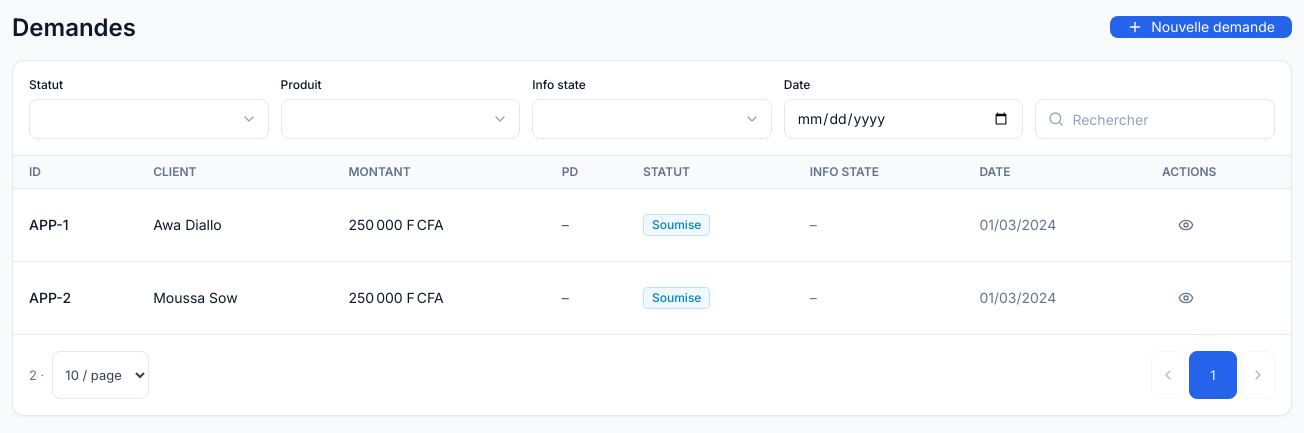
Test case: ApplicationsListPage › filters rows by free-text search
The width and height of the screenshot is (1304, 433).
Type "awa" into the search field at (1155, 119), box x1=1036 y1=100 x2=1274 y2=138
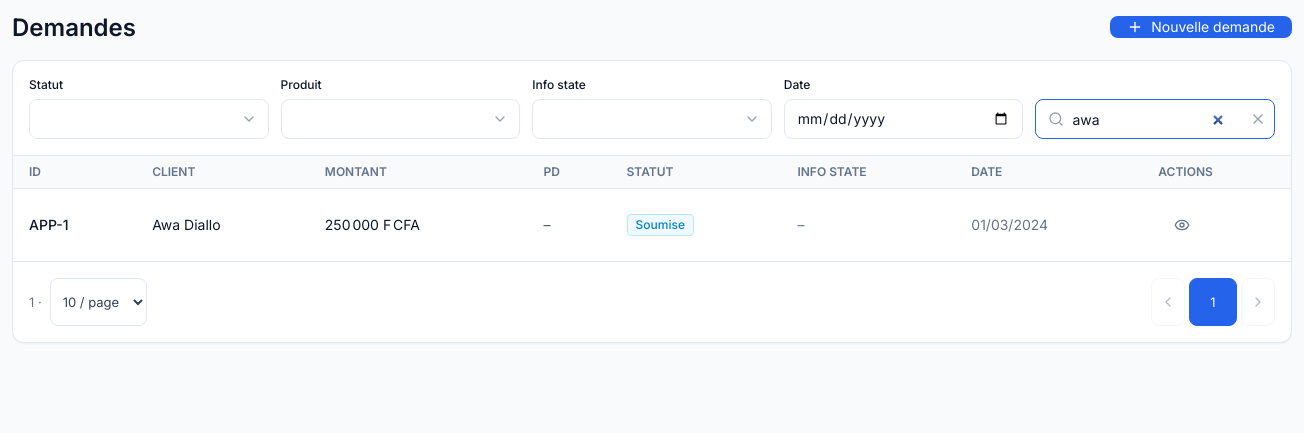
Expected: the text "Awa Diallo" is shown, x1=136 y1=188 x2=309 y2=262
Expected: the text "Moussa Sow" is gone
